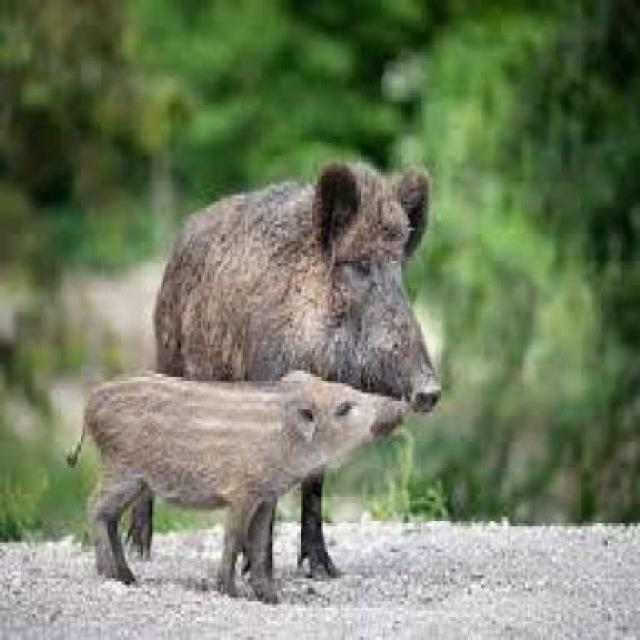wildboar: (90, 145, 462, 566), (62, 364, 416, 611)
